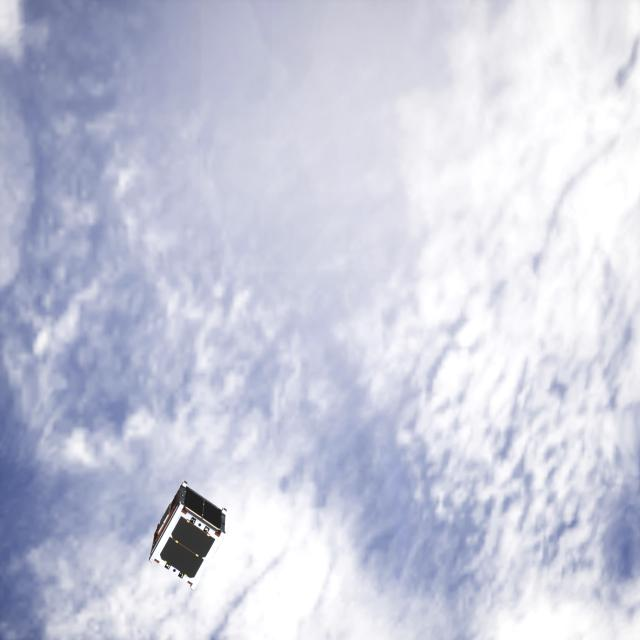medium_debris: (144, 474, 236, 582)
